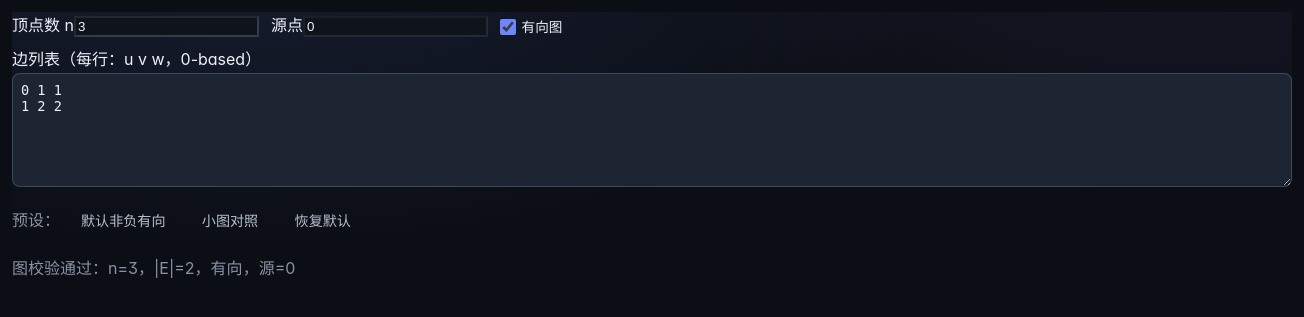
Scenario: V7 R2 GraphInput n/start › empty n is transient not runnable; fix to legal restores canRun
The image size is (1304, 317).
Clear the field with test id "graph-n": (166, 26) 74,16 -> 259,37
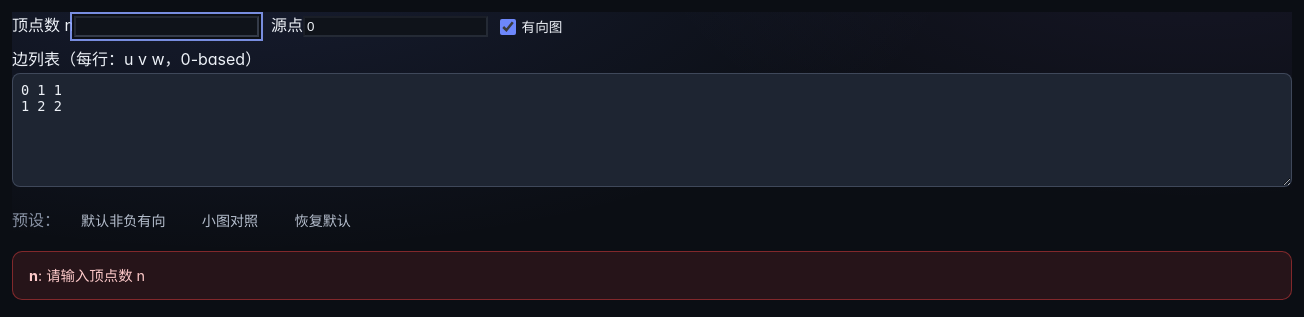
In the field with test id "graph-n": (166, 26) 74,16 -> 259,37, type "4"
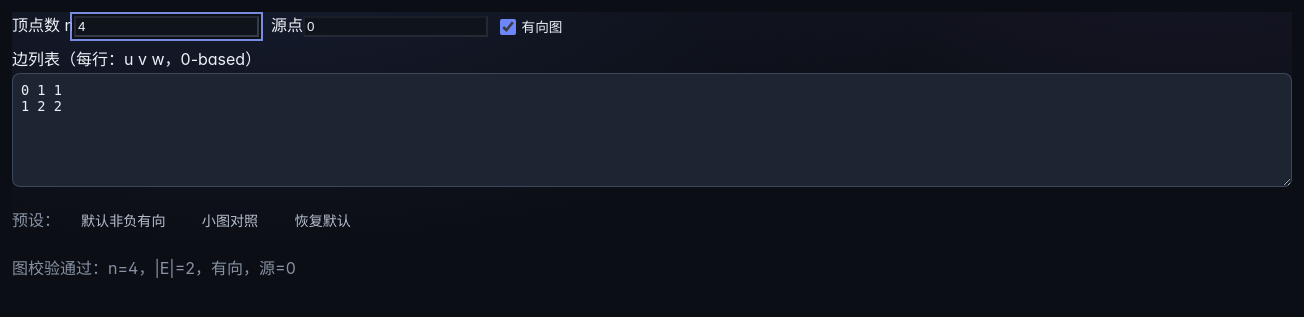
Check: the text with test id "graph-valid-ok" shows "n=4", box 12,258 -> 296,278
